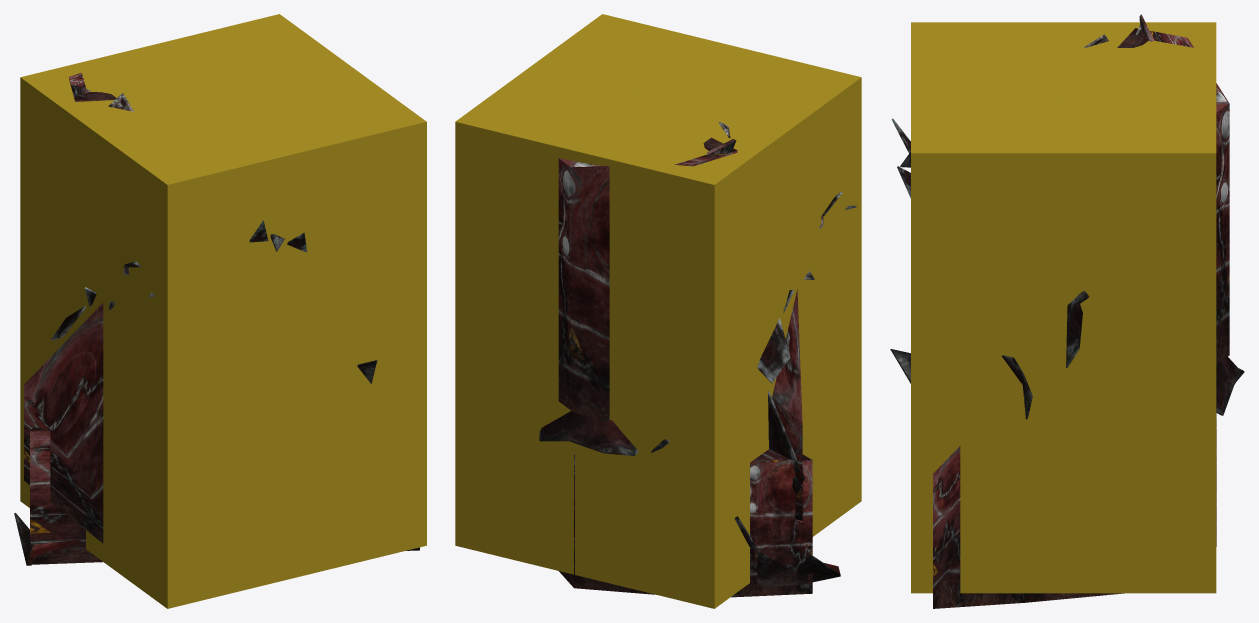
Rendered from barrelred_bk.DAE.
3 views of the same model, side by side, from view 1: azimuth 30°, elevation 25°; view 2: azimuth 150°, elevation 25°; view 3: azimuth 270°, elevation 25° (orthographic). The views are drawn at different scales.
Parts seen in each view (by area): view 1: bounds, col-3, col-2, barrel_bk-three200, barrel_bk-two200, barrel_bk-one200; view 2: bounds, col-4, col-2, col-3, barrel_bk-four200, barrel_bk-two200, barrel_bk-three200, barrel_bk-one200; view 3: bounds, col-2, col-4, barrel_bk-four200, barrel_bk-one200, barrel_bk-three200.
Boxes of the visible parts, x1,y1,x2,y2 form: bounds: [20, 14, 426, 608]; col-3: [24, 303, 103, 543]; col-2: [30, 427, 419, 564]; barrel_bk-three200: [26, 220, 377, 444]; barrel_bk-two200: [14, 513, 80, 565]; barrel_bk-one200: [51, 93, 284, 340]; bounds: [455, 14, 861, 608]; col-4: [558, 137, 737, 423]; col-2: [559, 449, 812, 597]; col-3: [772, 289, 802, 522]; barrel_bk-four200: [539, 139, 736, 455]; barrel_bk-two200: [651, 439, 840, 586]; barrel_bk-three200: [768, 191, 842, 493]; barrel_bk-one200: [637, 91, 856, 383]; bounds: [911, 22, 1216, 593]; col-2: [933, 413, 1216, 608]; col-4: [1117, 28, 1229, 364]; barrel_bk-four200: [1066, 14, 1244, 415]; barrel_bk-one200: [900, 34, 1108, 419]; barrel_bk-three200: [890, 118, 910, 383].
Bounding box in the file's own units: 1.04 × 0.9115 × 1.34.
